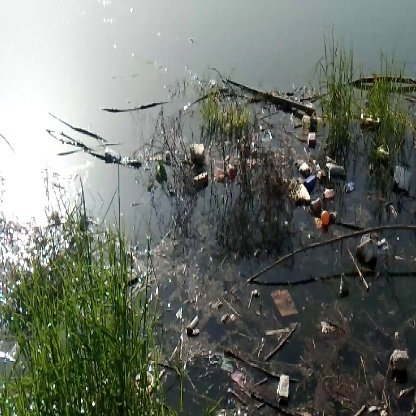branch: (252, 217, 416, 279), (226, 71, 327, 120)
